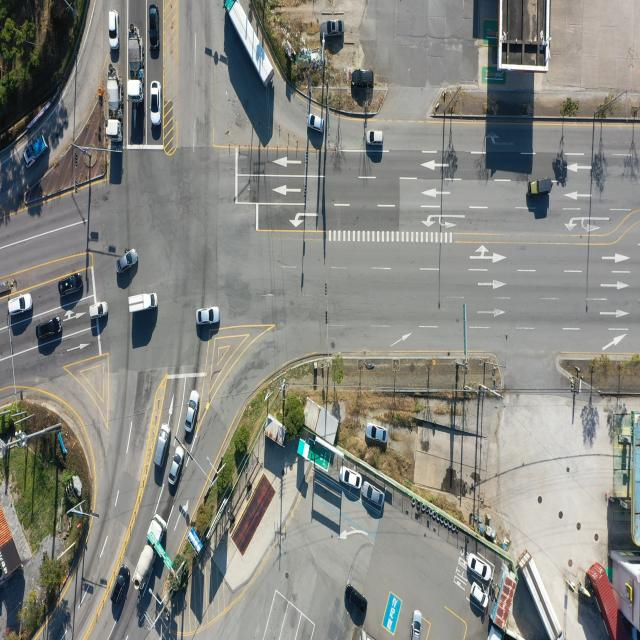car: (112, 566, 130, 609), (156, 423, 172, 468), (344, 585, 366, 616), (169, 444, 185, 485), (470, 555, 493, 582), (184, 390, 198, 433), (7, 294, 32, 318), (58, 274, 84, 297), (116, 248, 138, 273), (36, 318, 61, 340), (363, 483, 384, 508), (341, 466, 363, 488), (473, 580, 491, 606), (528, 178, 554, 196), (150, 80, 160, 126), (149, 4, 158, 51), (365, 423, 387, 442), (108, 10, 119, 48), (352, 68, 374, 87), (198, 308, 220, 326), (89, 302, 110, 320), (323, 20, 344, 38), (412, 610, 424, 640), (307, 116, 323, 134), (366, 131, 382, 145)
medium_truck: (224, 0, 271, 88), (524, 552, 564, 638), (133, 515, 167, 591), (126, 24, 144, 102), (105, 73, 123, 139)
small_truck: (21, 134, 47, 166), (128, 293, 156, 315)
